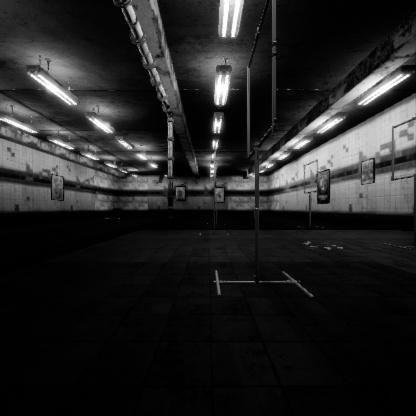gate: (251, 254, 283, 416), (392, 234, 416, 314), (304, 222, 319, 256), (215, 226, 217, 277), (216, 220, 217, 248)
